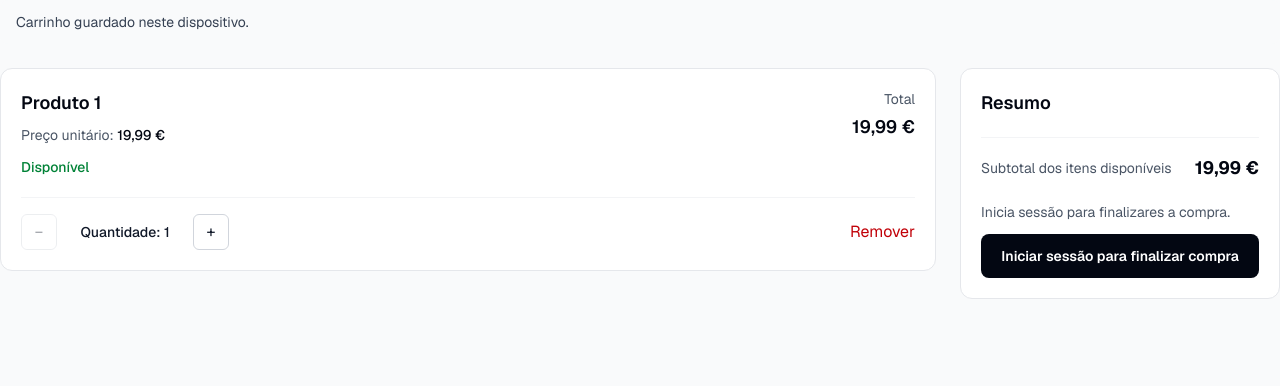
Test case: CartClient › bloqueia aumento no carrinho convidado quando existe merge pendente
The image size is (1280, 386).
Click the button named "Aumentar quantidade de Produto 1": (211, 232) top-left (193, 214), bottom-right (229, 250)
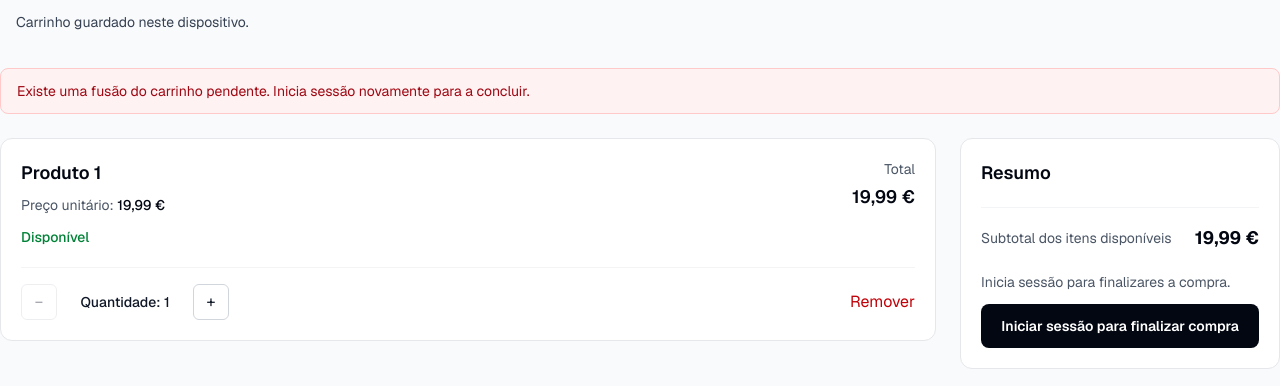
Expected: the text "Quantidade: 1" is shown, top-left (80, 293), bottom-right (170, 311)
Result: the text "Existe uma fusão do carrinho pendente. Inicia sessão novamente para a concluir." is shown at top-left (0, 68), bottom-right (1279, 114)
